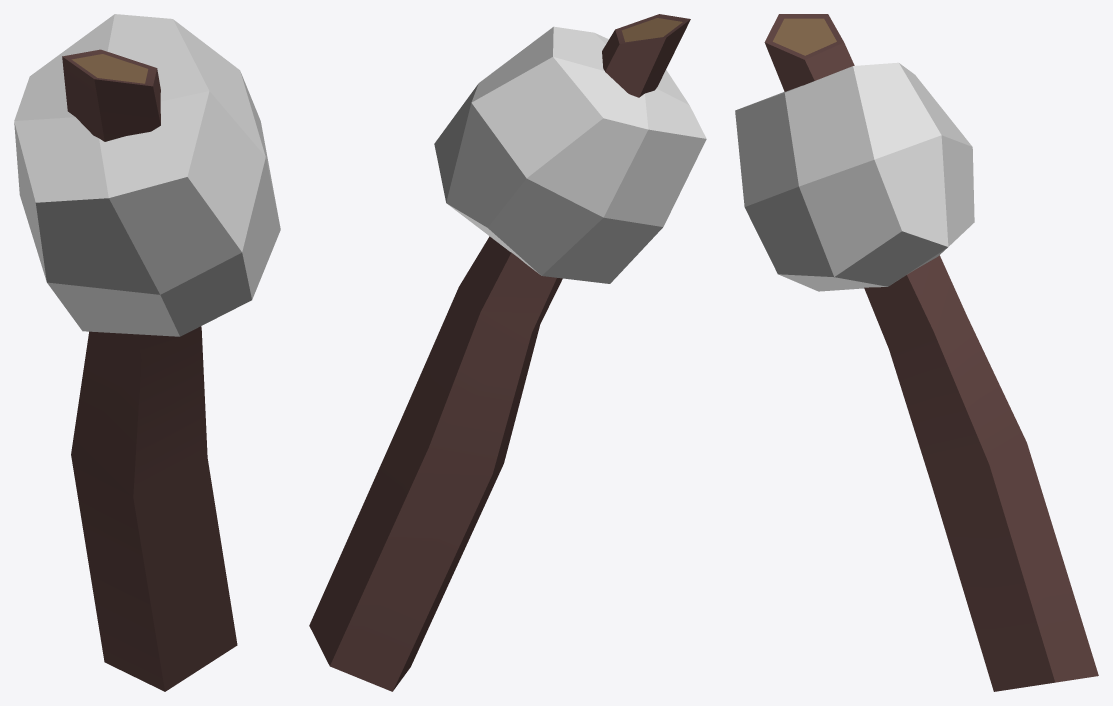
File: marshmellow.fbx
The picture shows the model from 3 angles, left to right: view 1: azimuth 30°, elevation 25°; view 2: azimuth 150°, elevation 25°; view 3: azimuth 270°, elevation 25°; orthographic projection. The views are drawn at different scales.
Visible parts, largest first — view 1: pCube1, weed1; view 2: weed1, pCube1; view 3: weed1, pCube1.
Part boxes in pixels (box(x1,y1,x2,y2)): pCube1: box(14, 14, 280, 336); weed1: box(62, 49, 237, 691); weed1: box(309, 14, 690, 691); pCube1: box(434, 26, 706, 283); weed1: box(764, 14, 1098, 691); pCube1: box(735, 62, 974, 291).
Size of the model in its own units: 0.2338 by 0.498 by 0.2753.
